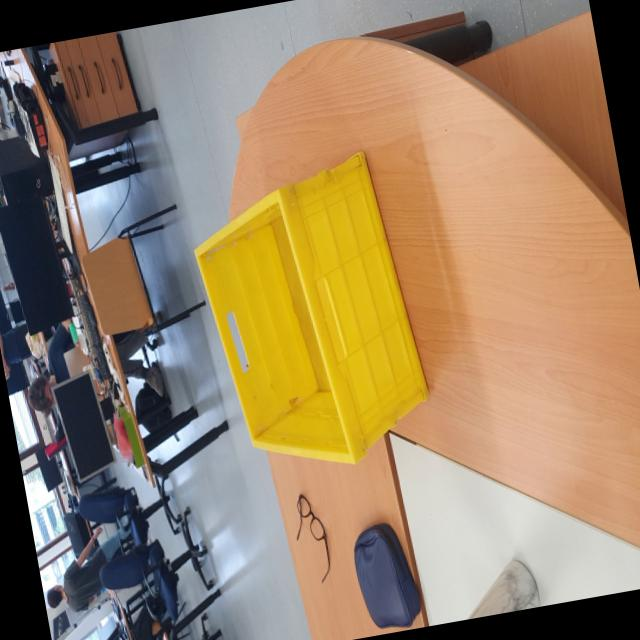box: (176, 132, 444, 493)
